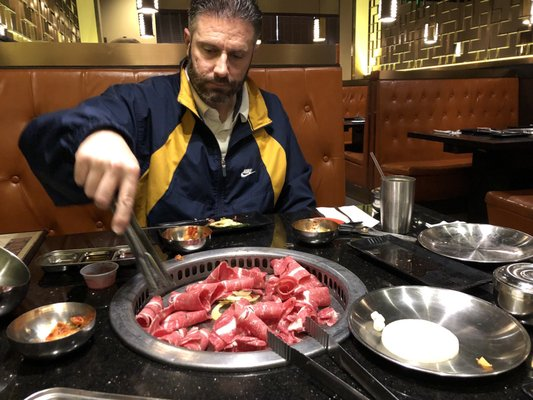sandwich: (266, 330, 377, 400)
sushi: (4, 302, 97, 359), (0, 246, 31, 322), (291, 217, 340, 245), (79, 261, 119, 292)
